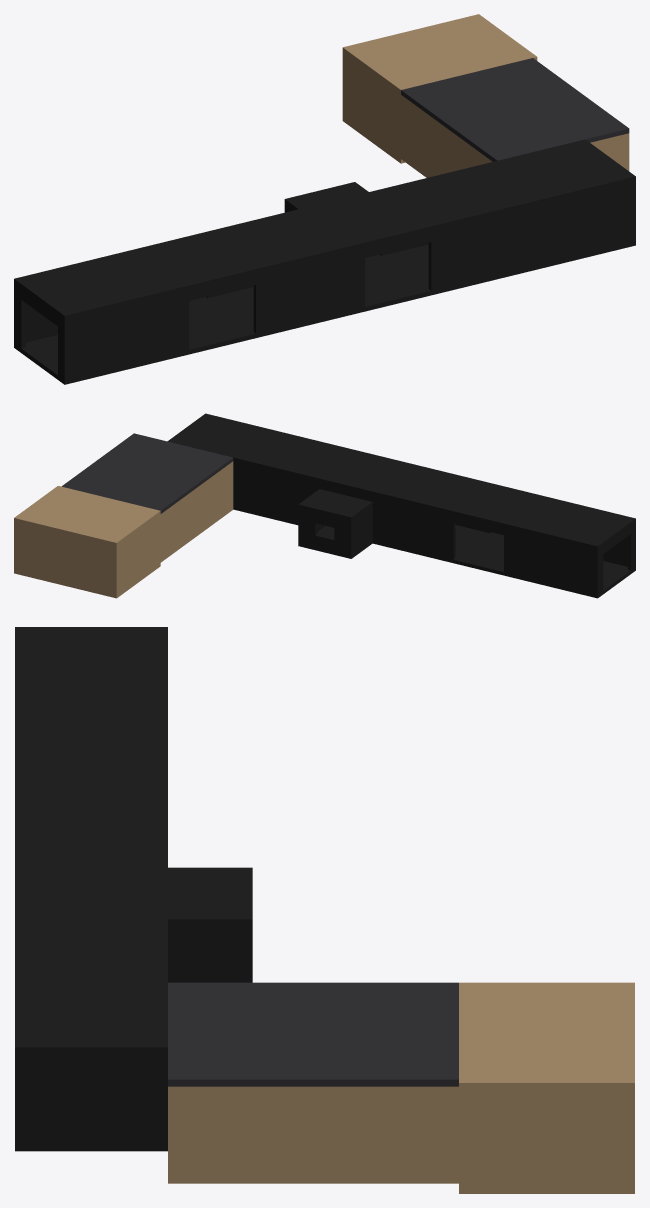
Rendered from segundoPiso.fbx.
3 views of the same model, one above another, from view 1: azimuth 30°, elevation 25°; view 2: azimuth 150°, elevation 25°; view 3: azimuth 270°, elevation 25° (orthographic). The views are drawn at different scales.
Visible parts, largest first — view 1: pasilloSupTecho, pasilloSupParedes, cabinaCamParedes.001, escalerasTecho, pasilloSupSuelo, cabinaCamParedes, cabinaSup; view 2: pasilloSupTecho, pasilloSupParedes, escalerasTecho, cabinaCamParedes.001, cabinaSup, pasilloSupSuelo, cabinaCamParedes, cabinaSupSuelo, cabinaCamSuelo; view 3: pasilloSupTecho, escalerasTecho, cabinaCamParedes.001, cabinaCamParedes, pasilloSupParedes, cabinaSup, cabinaCamSuelo, pasilloSupSuelo.
Boxes of the visible parts, x1=… form: pasilloSupTecho: x1=14, y1=139, x2=635, y2=320; pasilloSupParedes: x1=14, y1=181, x2=635, y2=379; cabinaCamParedes.001: x1=401, y1=58, x2=629, y2=161; escalerasTecho: x1=342, y1=14, x2=537, y2=163; pasilloSupSuelo: x1=14, y1=241, x2=635, y2=384; cabinaCamParedes: x1=401, y1=95, x2=629, y2=176; cabinaSup: x1=284, y1=182, x2=385, y2=255; pasilloSupTecho: x1=167, y1=413, x2=635, y2=549; pasilloSupParedes: x1=233, y1=461, x2=635, y2=594; escalerasTecho: x1=14, y1=486, x2=160, y2=598; cabinaCamParedes.001: x1=61, y1=433, x2=233, y2=513; cabinaSup: x1=298, y1=489, x2=372, y2=555; pasilloSupSuelo: x1=233, y1=506, x2=635, y2=598; cabinaCamParedes: x1=160, y1=461, x2=233, y2=558; cabinaSupSuelo: x1=298, y1=528, x2=372, y2=558; cabinaCamSuelo: x1=160, y1=506, x2=233, y2=562; pasilloSupTecho: x1=15, y1=627, x2=167, y2=1053; escalerasTecho: x1=459, y1=982, x2=634, y2=1193; cabinaCamParedes.001: x1=168, y1=982, x2=458, y2=1086; cabinaCamParedes: x1=168, y1=1086, x2=458, y2=1176; pasilloSupParedes: x1=15, y1=1054, x2=167, y2=1144; cabinaSup: x1=168, y1=867, x2=252, y2=982; cabinaCamSuelo: x1=168, y1=1176, x2=458, y2=1183; pasilloSupSuelo: x1=15, y1=1144, x2=167, y2=1151.
Bounding box in the file's own units: 14095 × 1600 × 8098.
